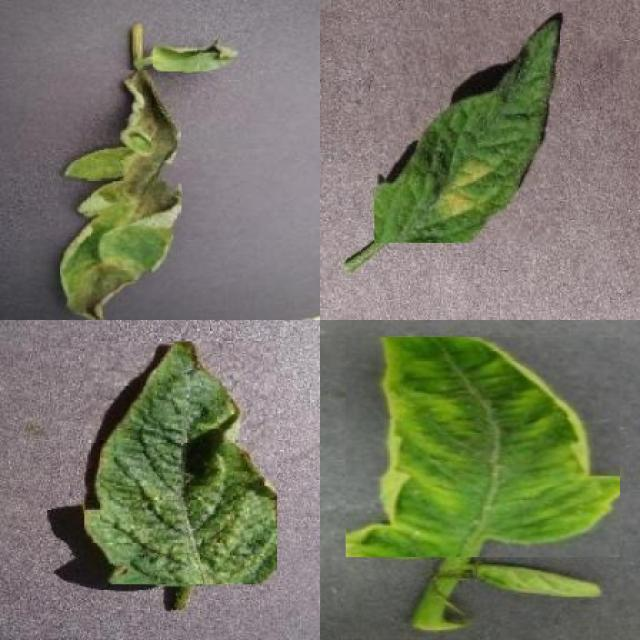Late Blight: (56, 70, 181, 320), (154, 40, 239, 72)
Leaf Mold: (374, 17, 560, 243)
Spider Mites: (84, 342, 277, 584)
Yellow Leaf Curl Virus: (346, 337, 620, 557), (478, 562, 602, 598)
